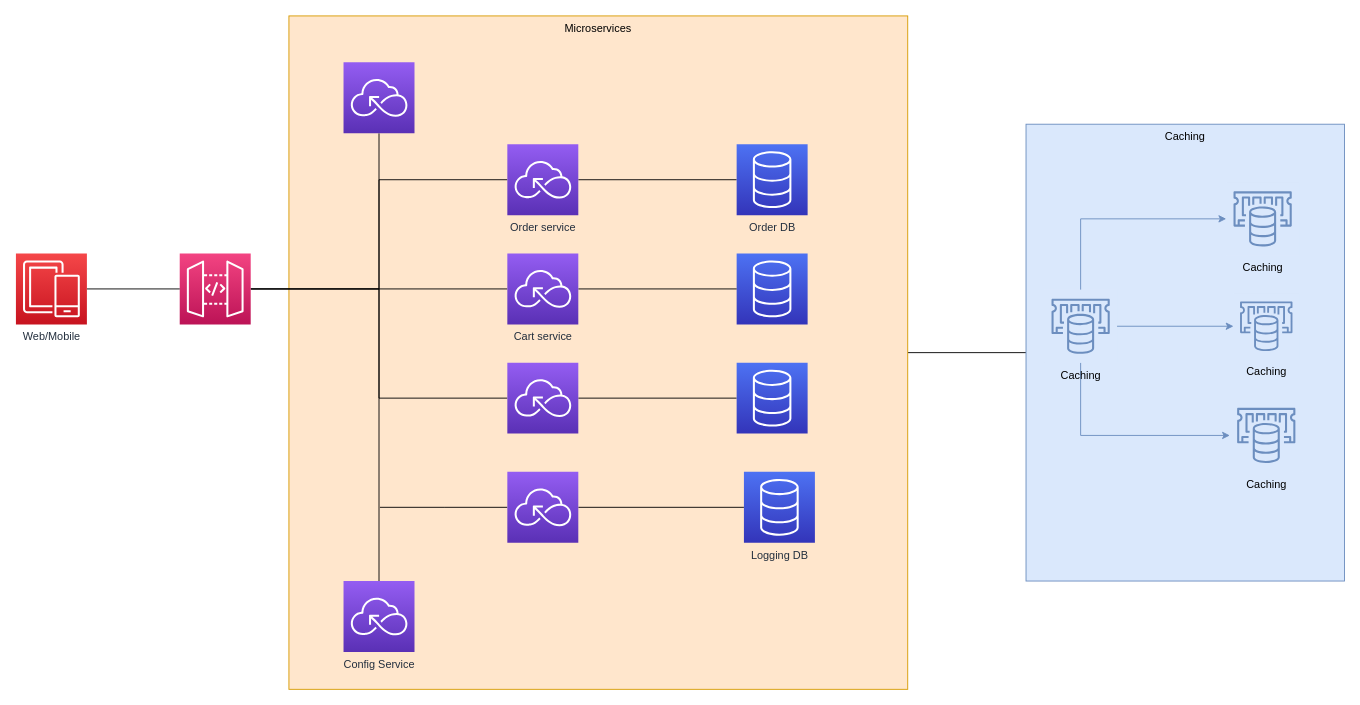
Some shapes in this 1360 by 705 pixel diagram are drawn without their labels. The centre of each missing label's shape, as x and y in pixels:
APIGW: (x=215, y=288)
Cart DB: (x=772, y=288)
Discovery service: (x=379, y=97)
Logging service: (x=542, y=507)
Product DB: (x=772, y=398)
Product service: (x=542, y=398)
